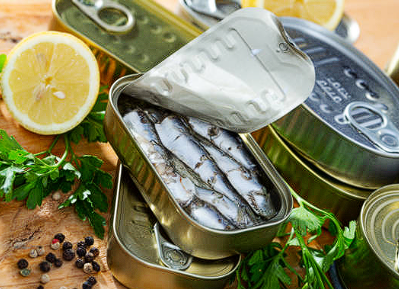Danificado: (111, 69, 291, 233)
Intacto: (286, 23, 399, 167), (48, 1, 188, 64), (361, 190, 399, 283)
